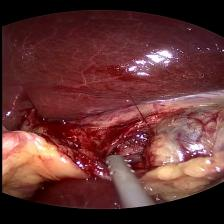Irrigator: (97, 152, 145, 188)
